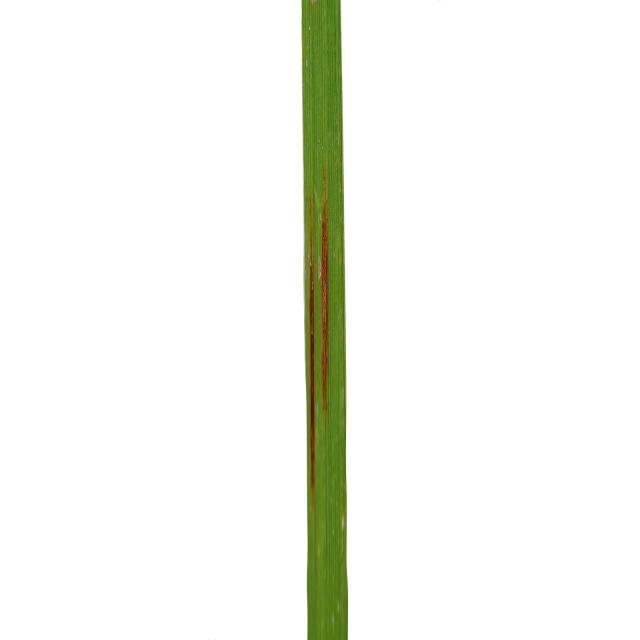Narrow brown: (172, 0, 512, 640)
